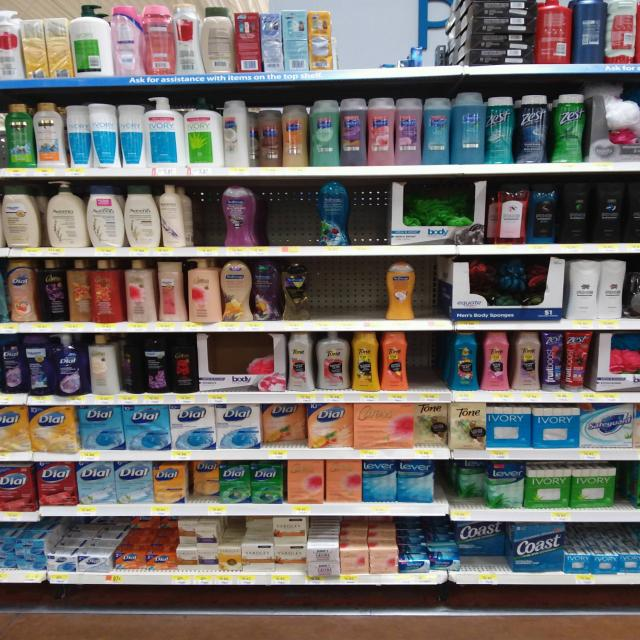empty: (336, 1, 464, 73), (310, 260, 392, 322), (261, 187, 324, 248), (190, 187, 229, 250), (348, 190, 389, 249), (415, 331, 455, 389), (412, 258, 451, 314)
